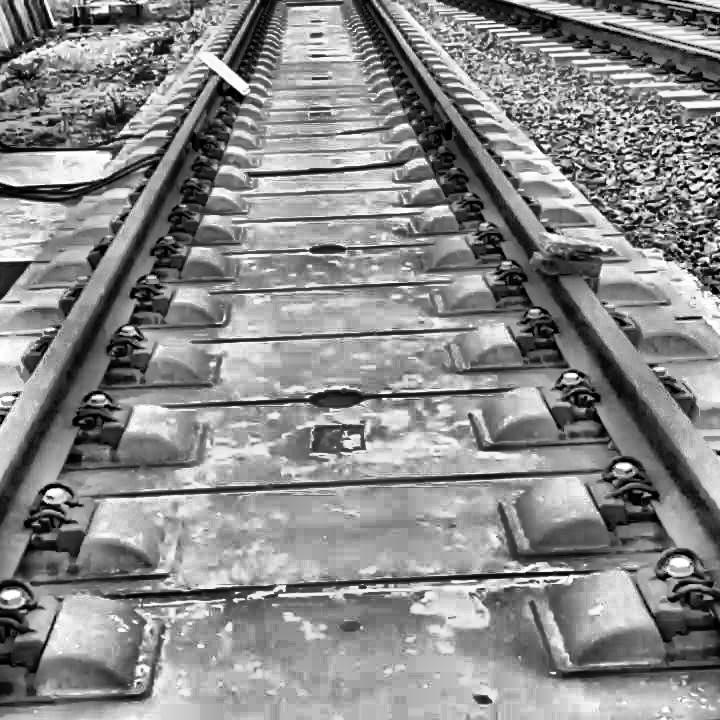Trash: (192, 40, 256, 102)
